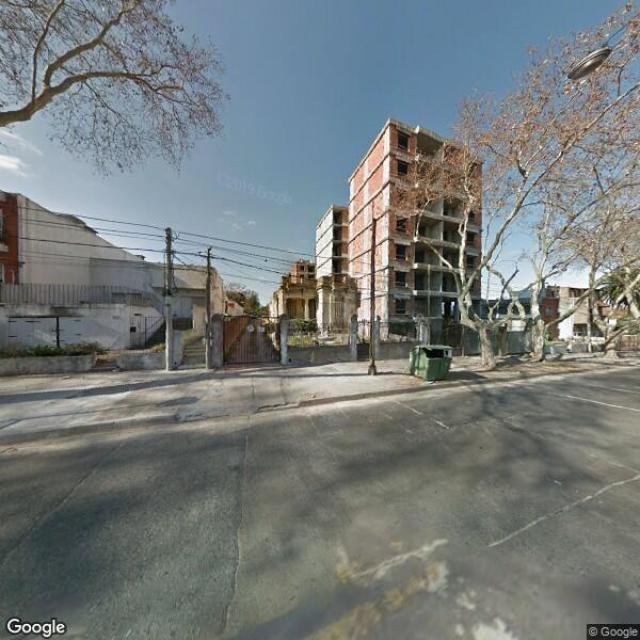garbage container: (403, 340, 461, 389)
